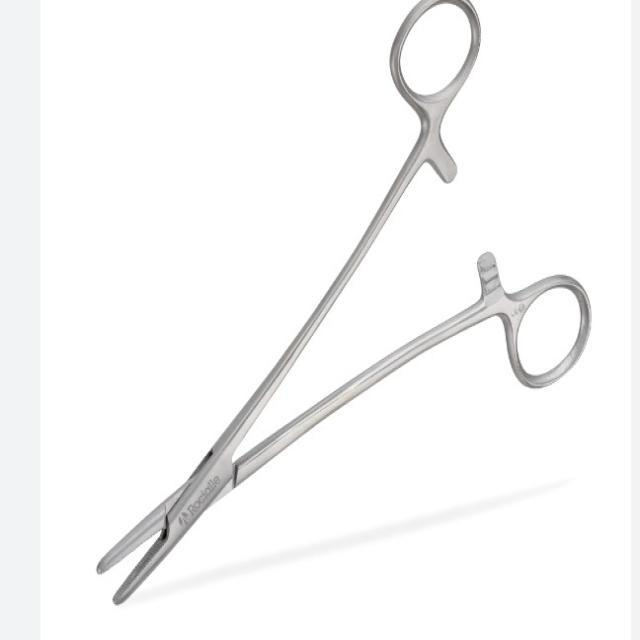Needle Holder: (85, 0, 593, 616)
